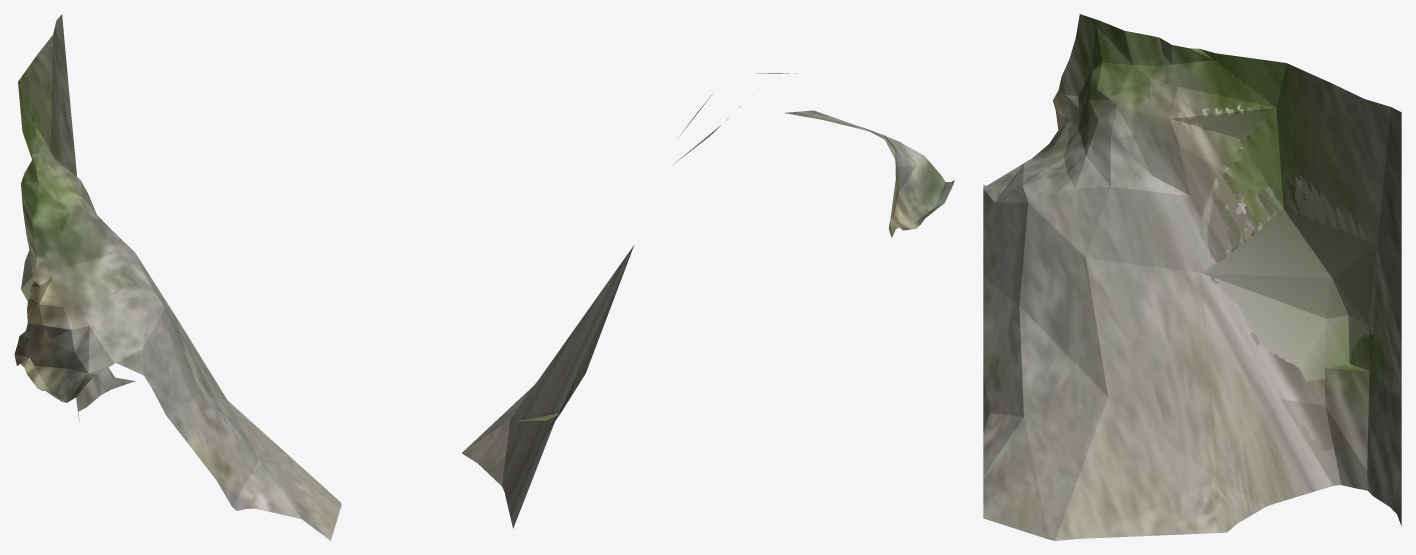
The picture shows the model from 3 angles, left to right: view 1: azimuth 30°, elevation 25°; view 2: azimuth 150°, elevation 25°; view 3: azimuth 270°, elevation 25°; orthographic projection. The views are drawn at different scales.
Bounding box in the file's own units: 2.47 × 2.95 × 2.95.
3 materials, 3 textured.
